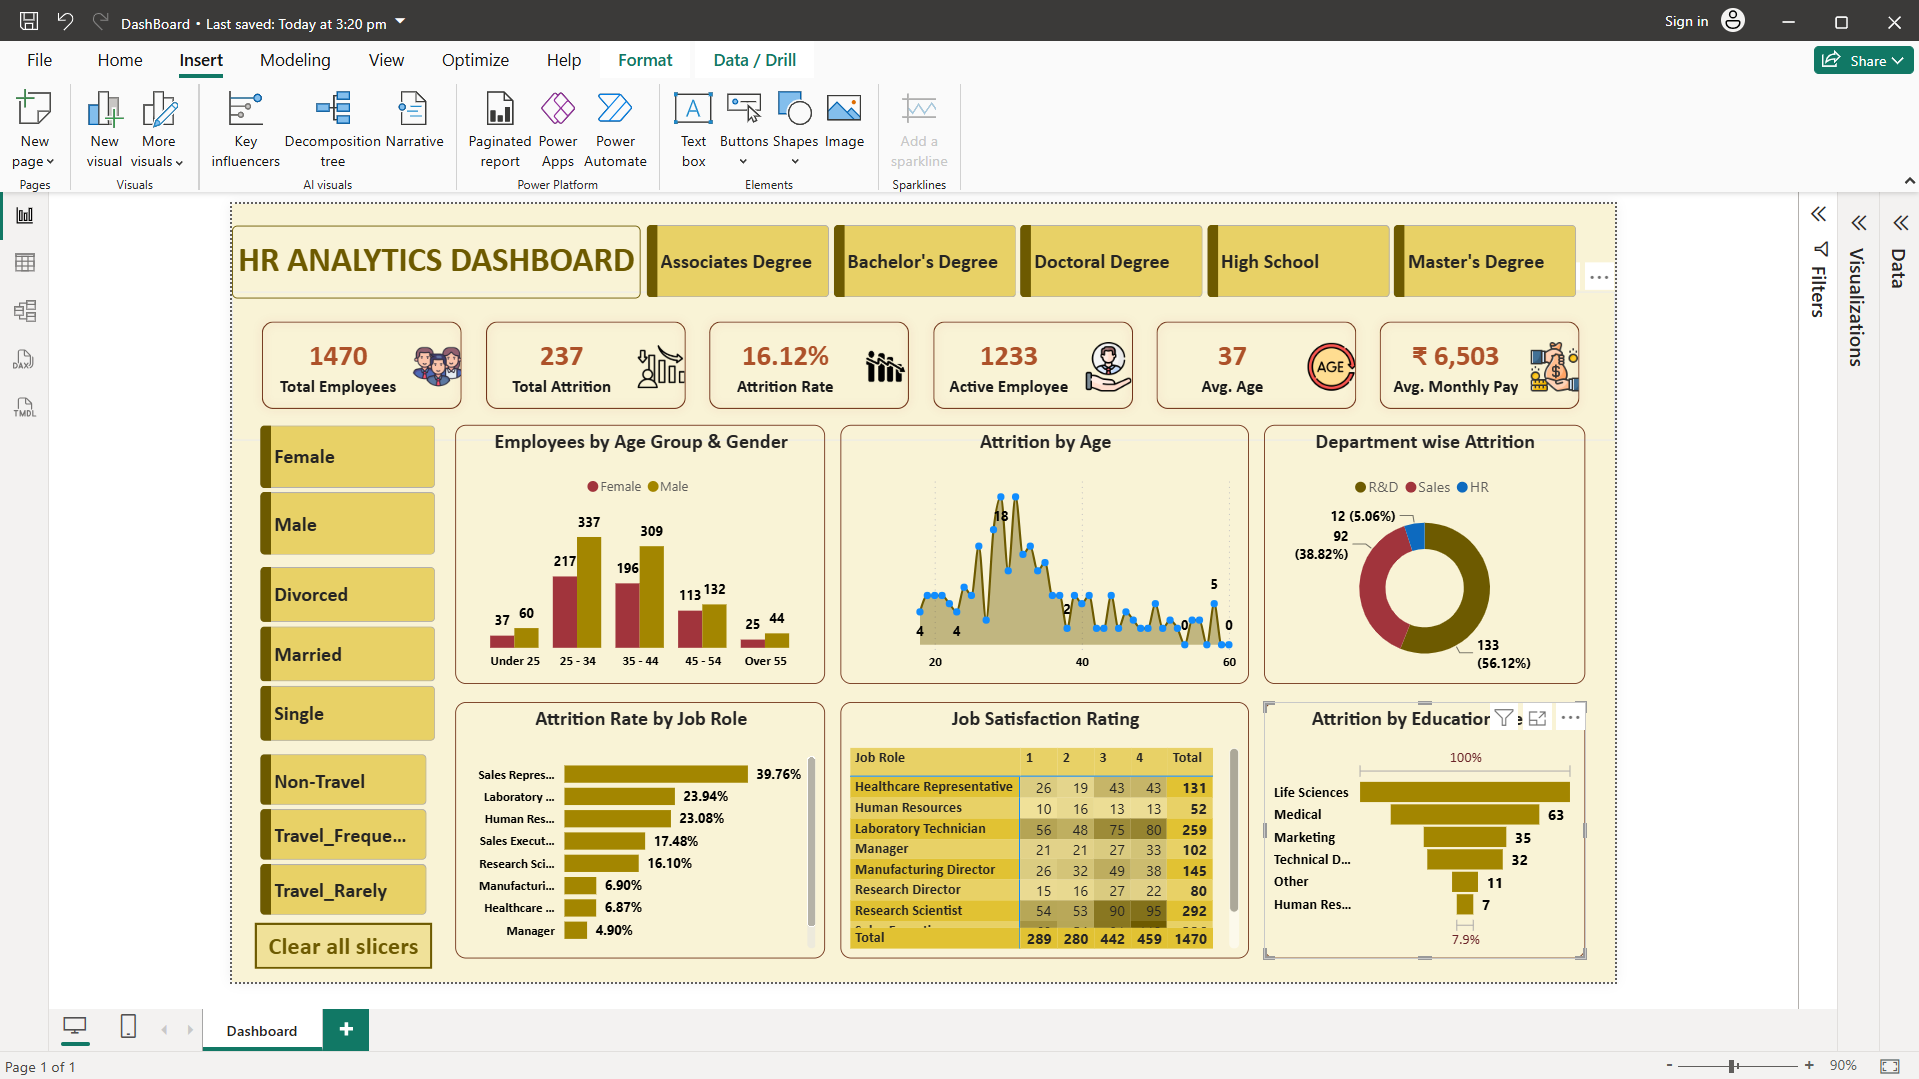

The page's visual inventory and layout, read from the dashboard file:
{"tool":"powerbi","page":{"name":"Dashboard","canvas":[1280,720],"ordinal":0},"visuals":[{"type":"cardVisual","fields":{"Data":["HR data.Total Employees","HR data.Total Attrition","HR data.Attrition Rate","HR data.Active Employee","Avg(HR data.Age)","Avg(HR data.Monthly Income)"]},"box":[0,81.4,1280.5,137.3],"z":0},{"type":"clusteredColumnChart","title":"Employees by Age Group & Gender","fields":{"Category":["HR data.Age Group"],"Y":["HR data.Total Employees"],"Series":["HR data.Gender"]},"box":[207.1,204.3,342.9,240],"z":1000},{"type":"areaChart","title":"Attrition by Age","fields":{"Category":["HR data.Age"],"Y":["HR data.Total Attrition"]},"box":[562.9,204.3,378.6,240],"z":2000},{"type":"donutChart","title":"Department wise Attrition","fields":{"Category":["HR data.Department"],"Y":["HR data.Total Attrition"]},"box":[955.7,204.3,297.1,240],"z":3000},{"type":"clusteredBarChart","fields":{"Y":["HR data.Attrition Rate"],"Category":["HR data.Job Role"]},"box":[207.1,461.4,342.9,237.1],"z":4000},{"type":"pivotTable","title":"Job Satisfaction Rating","fields":{"Rows":["HR data.Job Role"],"Columns":["HR data.Job Satisfaction"],"Values":["HR data.Total Employees"]},"box":[562.9,461.4,378.6,237.1],"z":5000},{"type":"funnel","title":"Attrition by Education Field","fields":{"Category":["HR data.Education Field"],"Y":["HR data.Total Attrition"]},"box":[955.7,461.4,297.1,237.1],"z":6000},{"type":"advancedSlicerVisual","fields":{"Values":["HR data.Gender"]},"box":[21.4,200,172.9,131.4],"z":7000},{"type":"advancedSlicerVisual","fields":{"Values":["HR data.Marital Status"]},"box":[21.4,331.4,172.9,172.9],"z":7001},{"type":"advancedSlicerVisual","fields":{"Values":["HR data.Business Travel"]},"box":[21.4,504.3,164.3,161.4],"z":7002},{"type":"advancedSlicerVisual","fields":{"Values":["HR data.Education"]},"box":[378.6,14.3,874.3,77.1],"z":7003},{"type":"actionButton","box":[21.4,665.7,164.3,42.9],"z":7004},{"type":"textbox","box":[0,20,378.6,67.1],"z":7005}]}

Visuals, with their boxes on the page's 1280x720 design canvas (x1, y1, x2, y2). These are canvas units, not pixel positions in the 1919x1079 screenshot, which may show the page scaled, cropped or inside an application window:
cardVisual - HR data.Total Employees x HR data.Total Attrition: detection(0, 81, 1280, 219)
"Employees by Age Group & Gender" clusteredColumnChart: detection(207, 204, 550, 444)
"Attrition by Age" areaChart: detection(563, 204, 942, 444)
"Department wise Attrition" donutChart: detection(956, 204, 1253, 444)
clusteredBarChart - HR data.Attrition Rate x HR data.Job Role: detection(207, 461, 550, 698)
"Job Satisfaction Rating" pivotTable: detection(563, 461, 942, 698)
"Attrition by Education Field" funnel: detection(956, 461, 1253, 698)
advancedSlicerVisual - HR data.Gender: detection(21, 200, 194, 331)
advancedSlicerVisual - HR data.Marital Status: detection(21, 331, 194, 504)
advancedSlicerVisual - HR data.Business Travel: detection(21, 504, 186, 666)
advancedSlicerVisual - HR data.Education: detection(379, 14, 1253, 91)
actionButton: detection(21, 666, 186, 709)
textbox: detection(0, 20, 379, 87)
